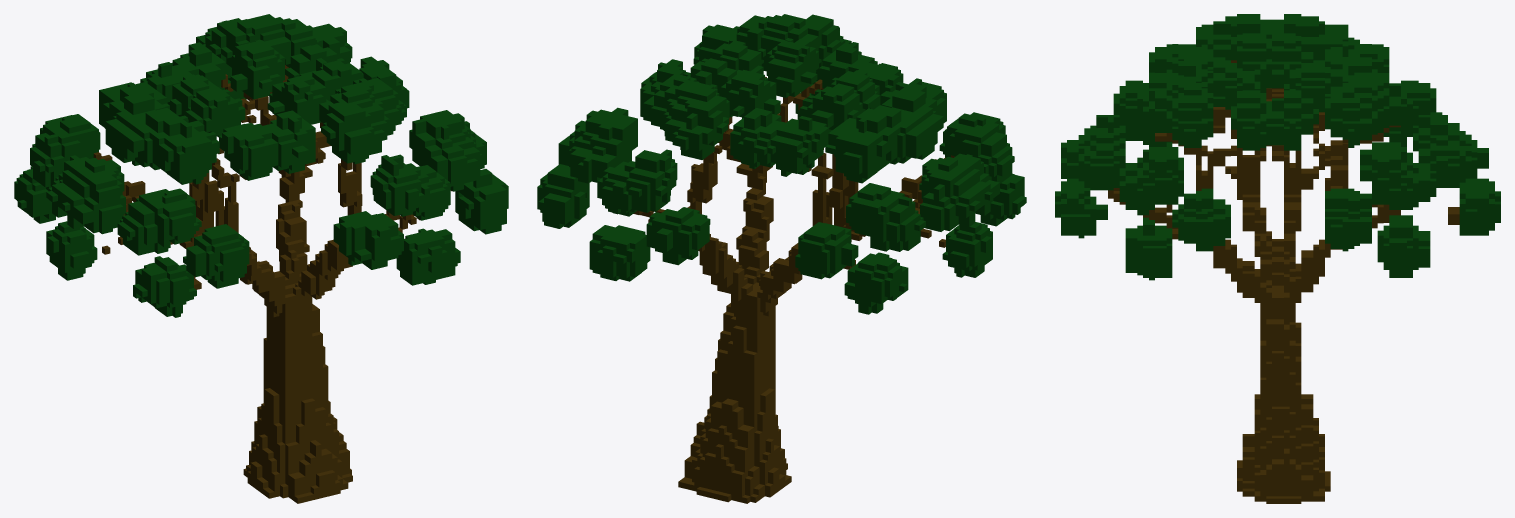
Rendered from TreeLOD-1-Tree3_1.obj.
The picture shows the model from 3 angles, left to right: view 1: azimuth 30°, elevation 25°; view 2: azimuth 150°, elevation 25°; view 3: azimuth 270°, elevation 25°; orthographic projection. The views are drawn at different scales.
Parts seen in each view (by area): view 1: Tree3_1; view 2: Tree3_1; view 3: Tree3_1.
Part boxes in pixels (box(x1,y1,x2,y2)): Tree3_1: box(14, 14, 508, 503); Tree3_1: box(537, 14, 1026, 503); Tree3_1: box(1055, 14, 1500, 503).
Size of the model in its own units: 7.2 by 7.6 by 7.6.
Materials: 1 (1 with a texture image).
